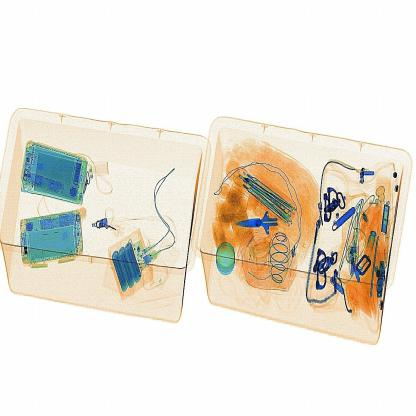gun: (230, 193, 296, 249)
